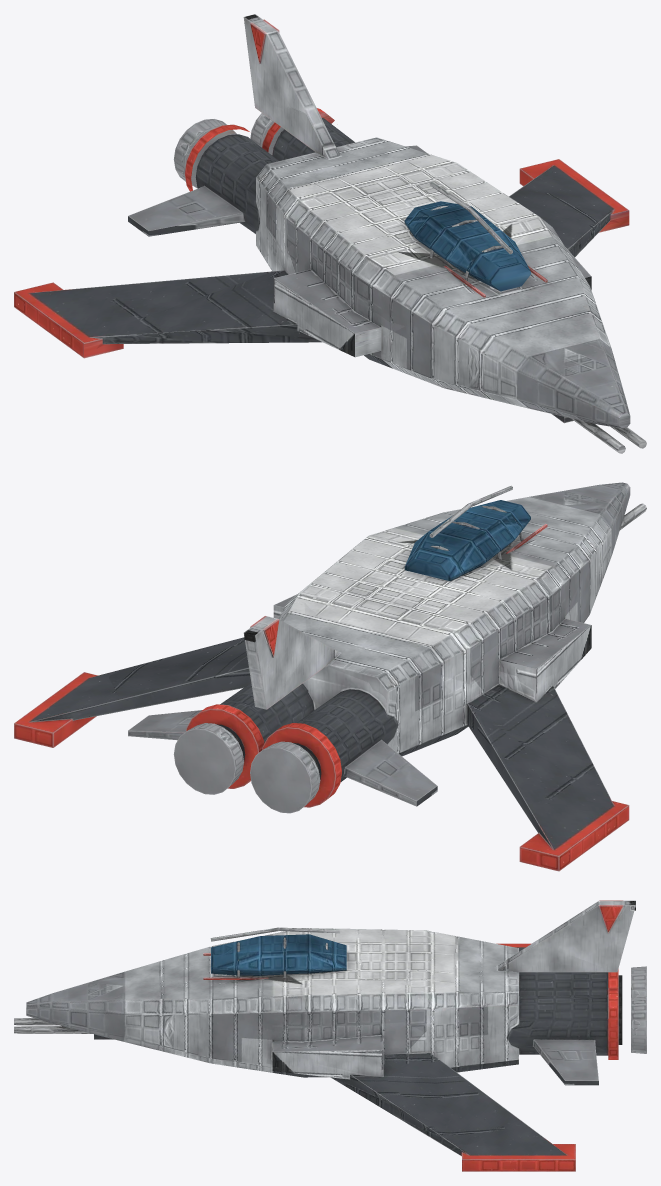
Rendered from sd_ship_sahin_m.glb.
3 views of the same model, one above another, from view 1: azimuth 30°, elevation 25°; view 2: azimuth 150°, elevation 25°; view 3: azimuth 270°, elevation 25° (orthographic). The views are drawn at different scales.
Parts seen in each view (by area): view 1: LOD0_body, LOD1_body; view 2: LOD0_body, LOD1_body; view 3: LOD0_body, LOD1_body.
Part boxes in pixels (left/top/right/bottom): LOD0_body: left=14, top=14, right=646, bottom=453; LOD1_body: left=14, top=15, right=618, bottom=431; LOD0_body: left=14, top=482, right=646, bottom=871; LOD1_body: left=24, top=484, right=622, bottom=855; LOD0_body: left=14, top=900, right=646, bottom=1171; LOD1_body: left=86, top=902, right=635, bottom=1156.
Size of the model in its own units: 0.8074 by 0.2802 by 1.
Materials: 1 (1 with a texture image).
